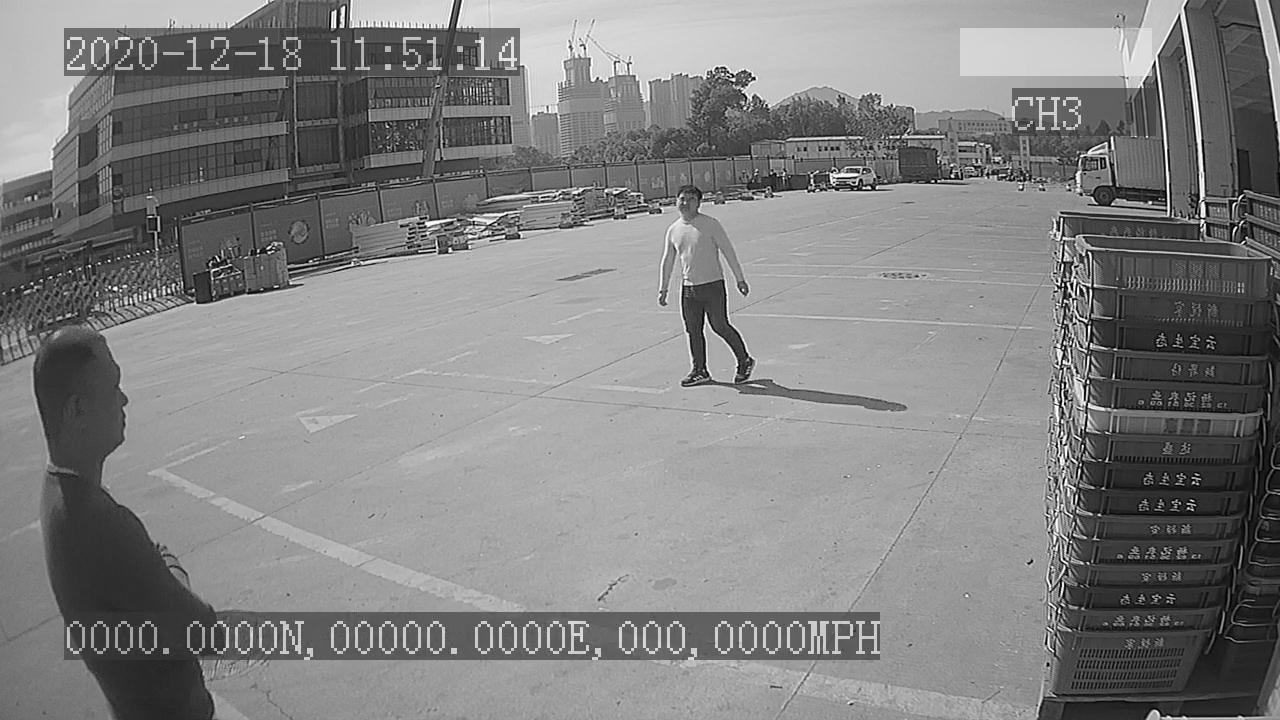person: (645, 185, 765, 392)
